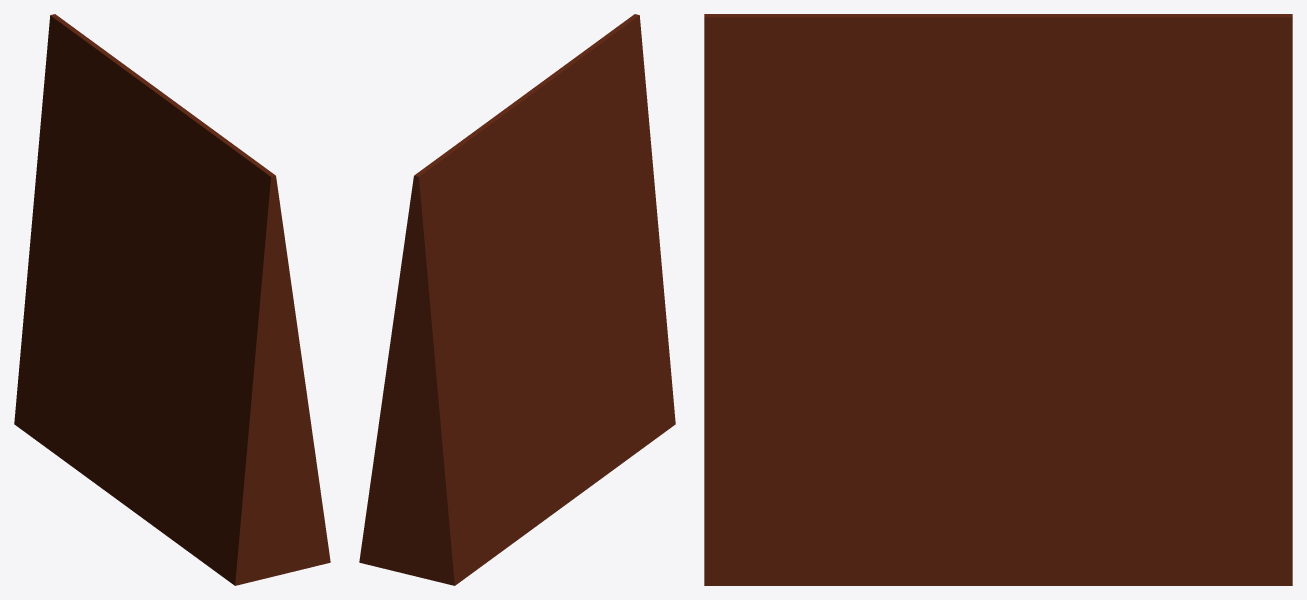
Rendered from Seeds.dae.
3 renders of one model, left to right at view 1: azimuth 30°, elevation 25°; view 2: azimuth 150°, elevation 25°; view 3: azimuth 270°, elevation 25°, orthographic. The views are drawn at different scales.
Parts seen in each view (by area): view 1: Seeds; view 2: Seeds; view 3: Seeds.
Boxes of the visible parts, x1,y1,x2,y2 form: Seeds: (14,14,330,585); Seeds: (359,14,675,585); Seeds: (704,14,1292,585).
Size of the model in its own units: 0.05 by 0.2 by 0.2.
